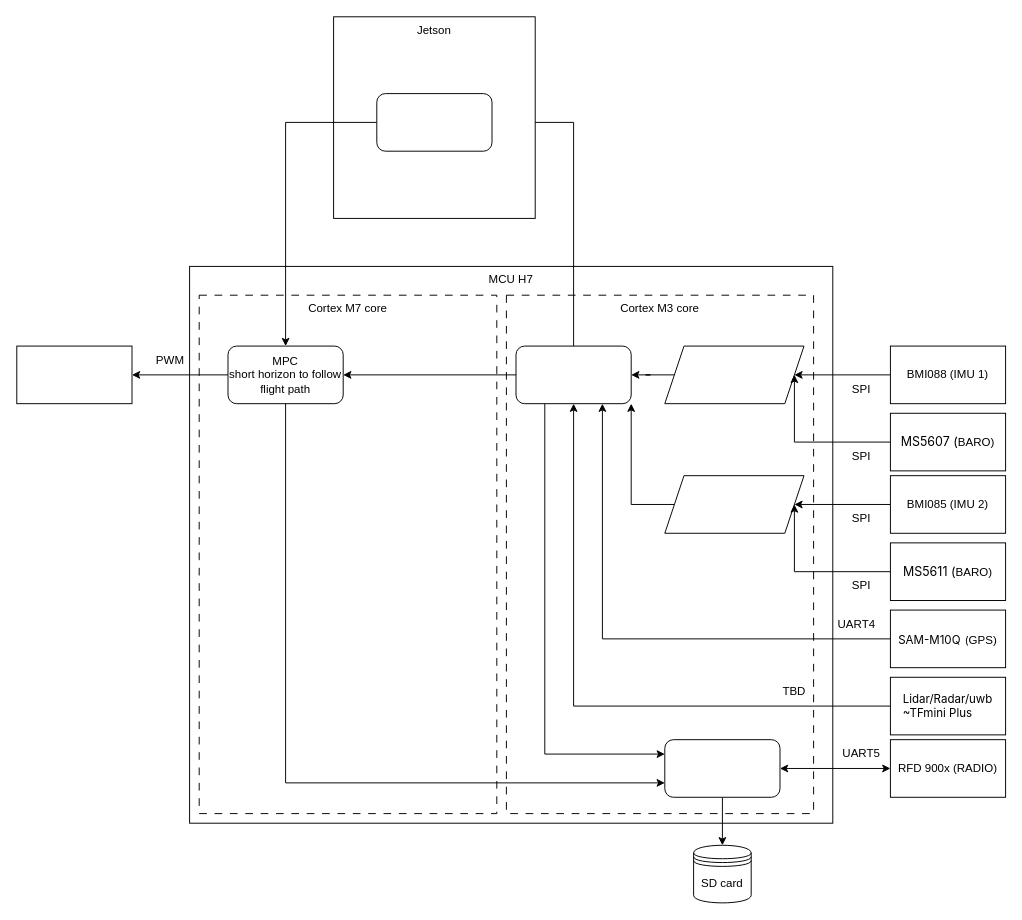
Image size: 1022x920. Some labels were removed from this diagram. The shapes that lost their labels are listed below. From the top down, each one's centre as x and y in pixels, then its label:
At point (434, 122): "SCvx rocket path planning".
At point (74, 374): "Servos".
At point (573, 374): "EKF Sensor fusion & filtering, state estimation".
At point (734, 374): "SPI1 job queue DMA INTC pattern".
At point (734, 504): "SPI2 job queue DMA INTC pattern".
At point (722, 768): "RADIO/state machine/Data logging".
